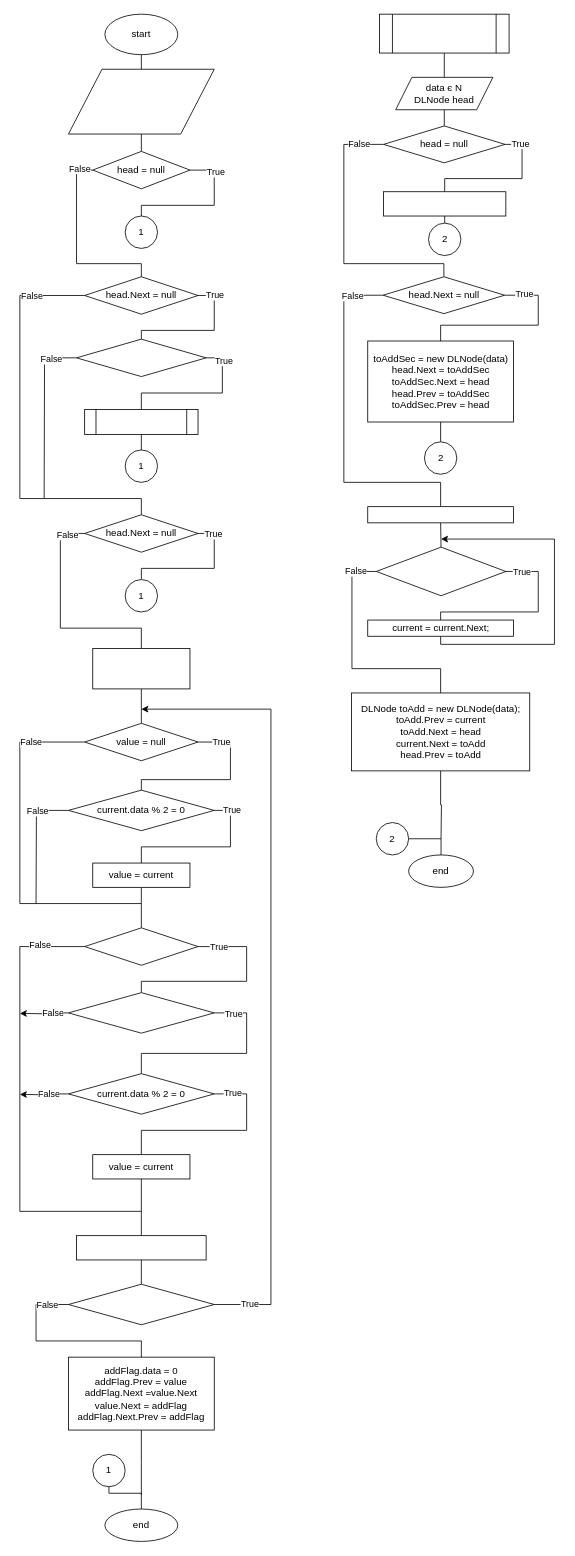
Some shapes in this 575 by 1556 pixel diagram are drawn without their labels. Here are the shapes that lost their labels. From the top down, the centre of each, then its label:
At point (444, 33): "AddLast(data)".
At point (141, 101): "List list DLNode current DLNode value DLNode addFlag DLNode head".
At point (444, 203): "head = new DLNode(data)".
At point (141, 357): "head.data % 2 = 0".
At point (141, 421): "AddLast(0)".
At point (440, 514): "DLNode current = head;".
At point (440, 571): "current.Next != head".
At point (141, 668): "current = head value = null".
At point (141, 946): "value != null".
At point (141, 1012): "current.data < value.data".
At point (141, 1247): "current = current.Next".
At point (141, 1304): "current != head".
